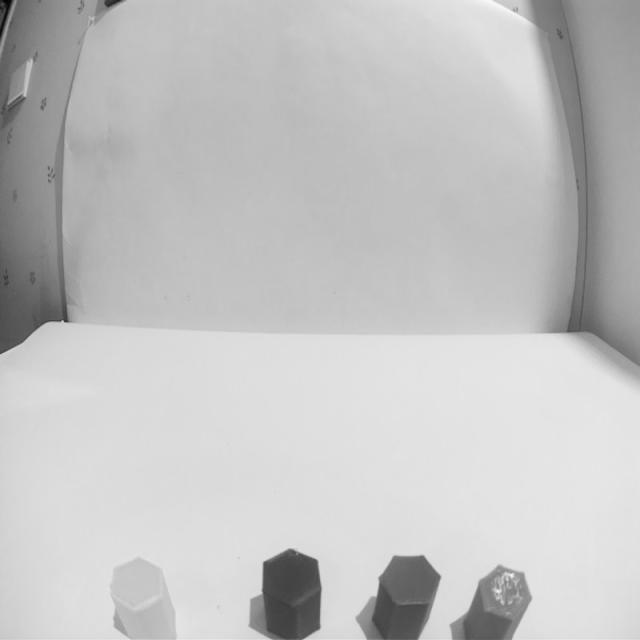hexagon: (257, 544, 327, 640), (373, 549, 444, 640), (108, 551, 178, 640), (463, 560, 537, 640)
